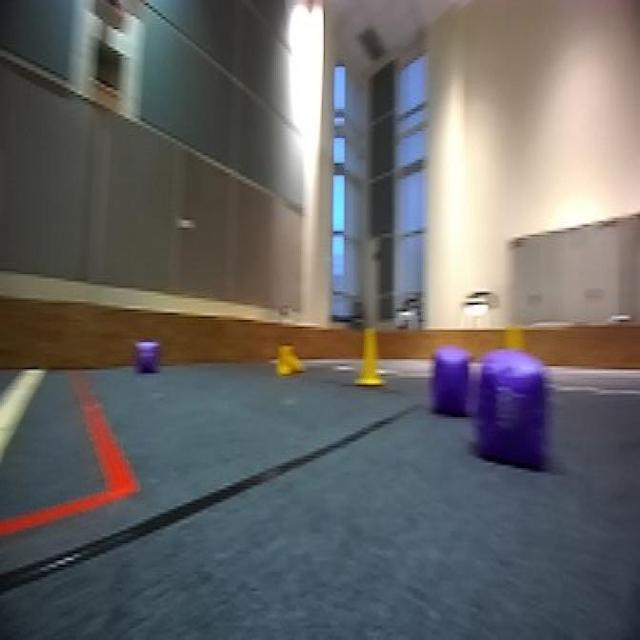frc_cone: (355, 323, 388, 388), (271, 340, 306, 380)
frc_cube: (472, 354, 550, 465), (432, 359, 468, 410), (132, 337, 159, 380)
